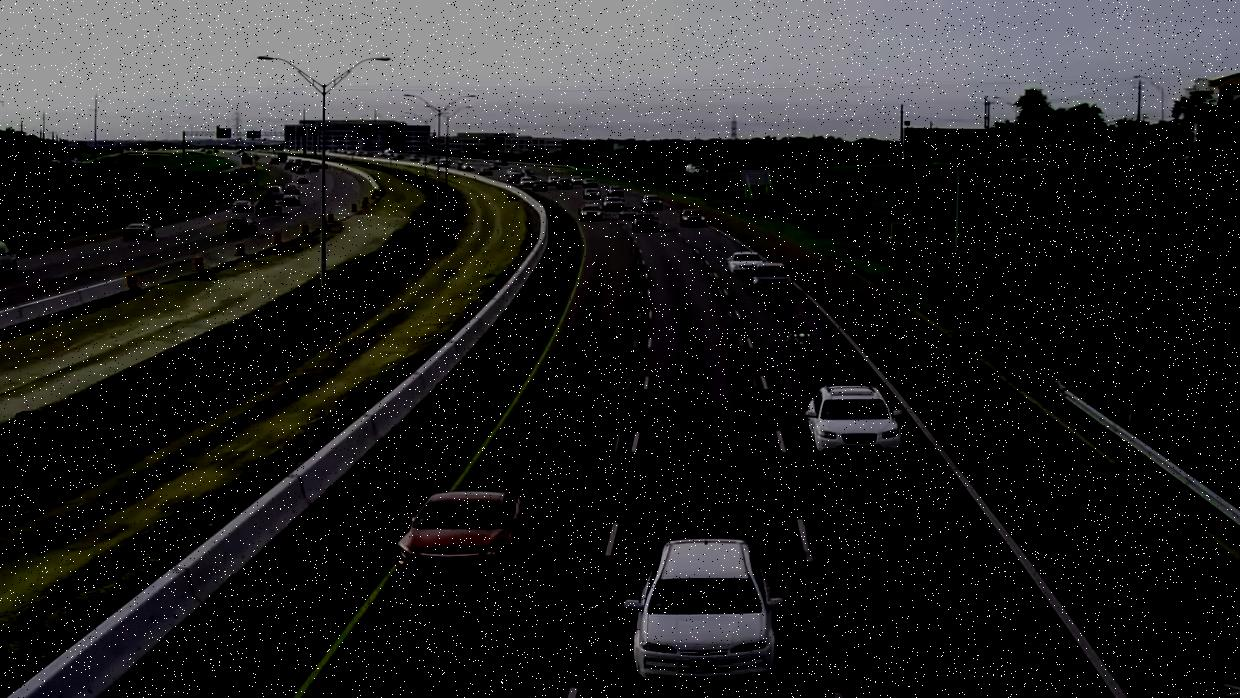bike: (783, 330, 817, 354)
car: (623, 537, 778, 690), (392, 491, 530, 582), (807, 382, 901, 429), (751, 266, 796, 295), (727, 251, 761, 275), (0, 237, 19, 275), (125, 225, 157, 243), (603, 193, 629, 212), (226, 221, 255, 238), (632, 216, 660, 232), (579, 203, 602, 219), (230, 201, 254, 215), (680, 212, 703, 225), (255, 202, 277, 215), (642, 198, 665, 210)
